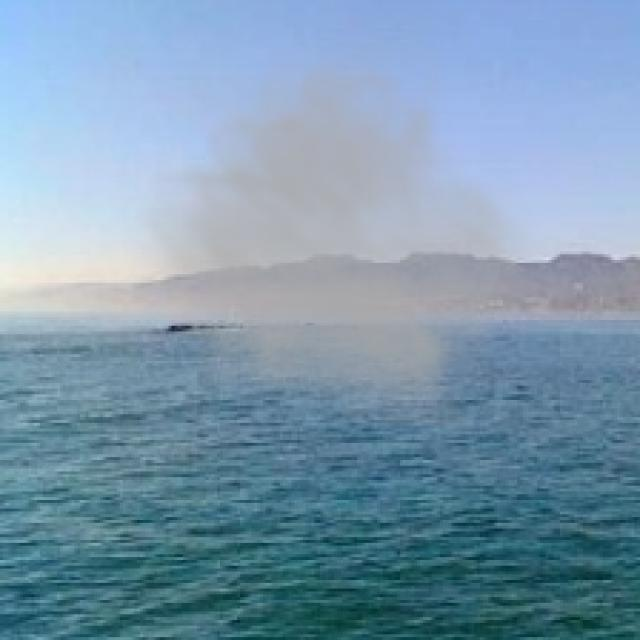Smoke: (122, 17, 548, 426)
